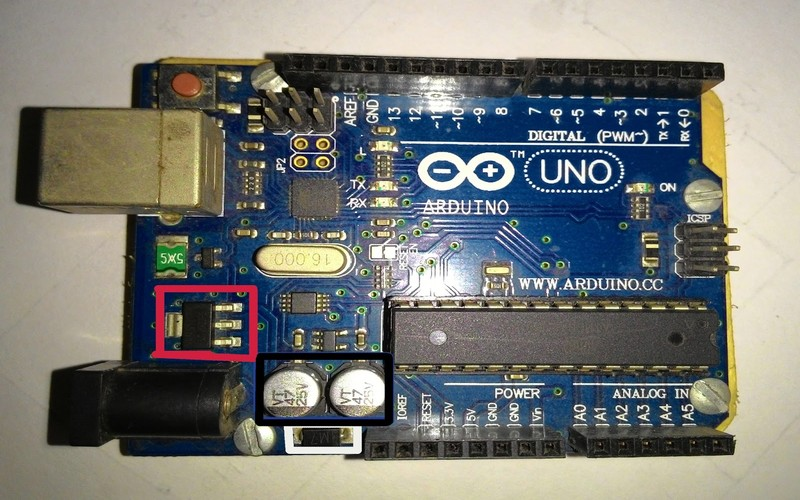Regulator: (13, 32, 750, 466)
